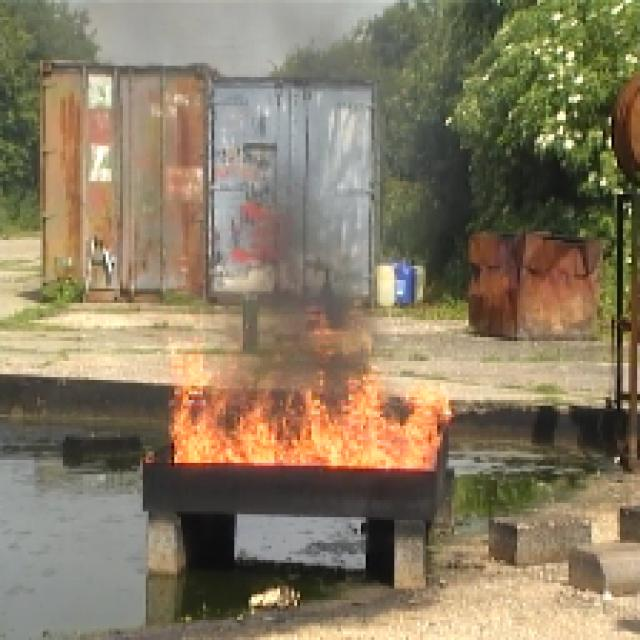fire: (158, 371, 459, 479)
